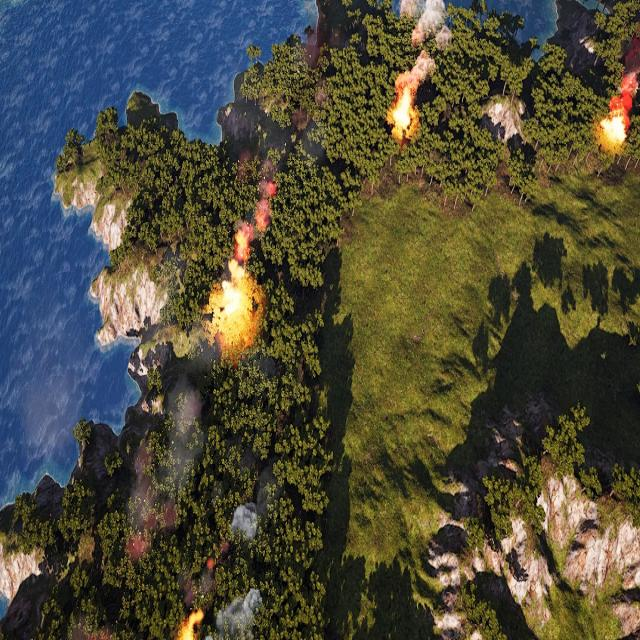fire: (208, 270, 256, 345), (388, 85, 416, 134), (602, 106, 630, 148), (176, 607, 203, 640)
smoke: (127, 349, 211, 554), (397, 0, 454, 88), (232, 163, 279, 256), (234, 459, 278, 544), (214, 580, 262, 640), (615, 37, 640, 102)
